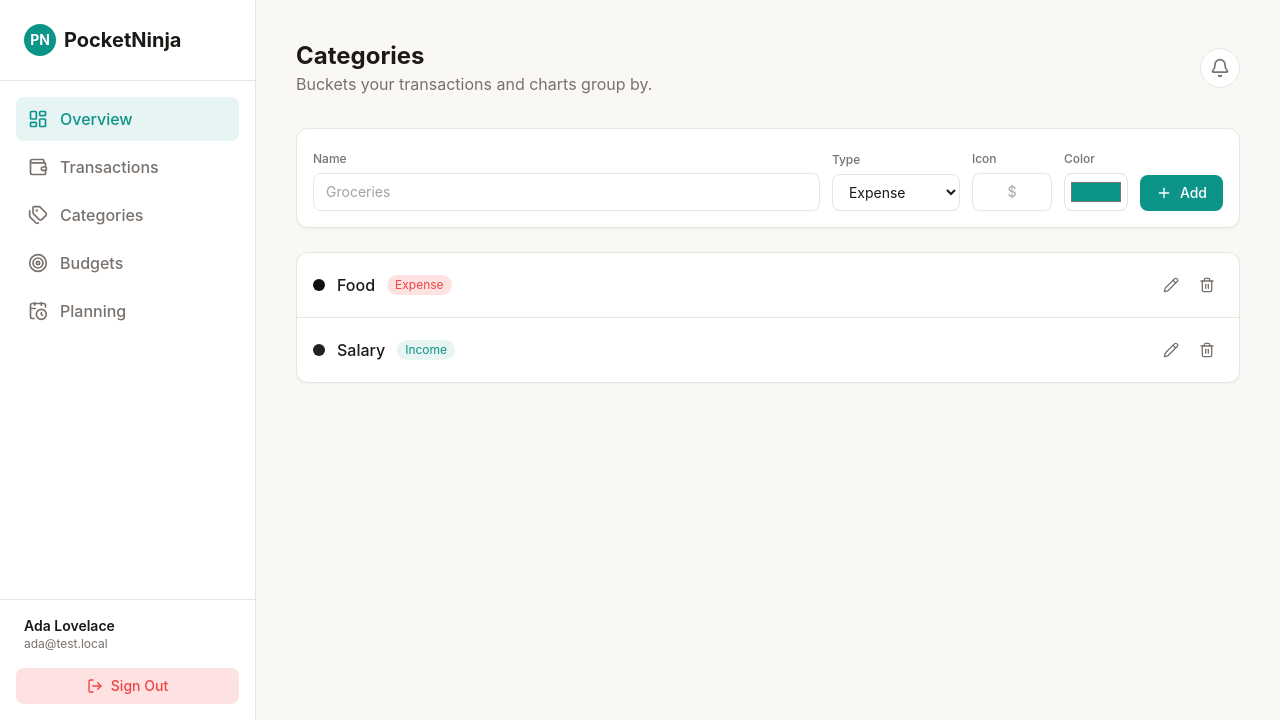
it: CategoriesPage › a failed add shows the server message and keeps the typed name
Expected: the text "Food" is shown, [337,273,375,297]
Type "X" into the field labelled "Name" at [566, 192], box [313,173,820,211]
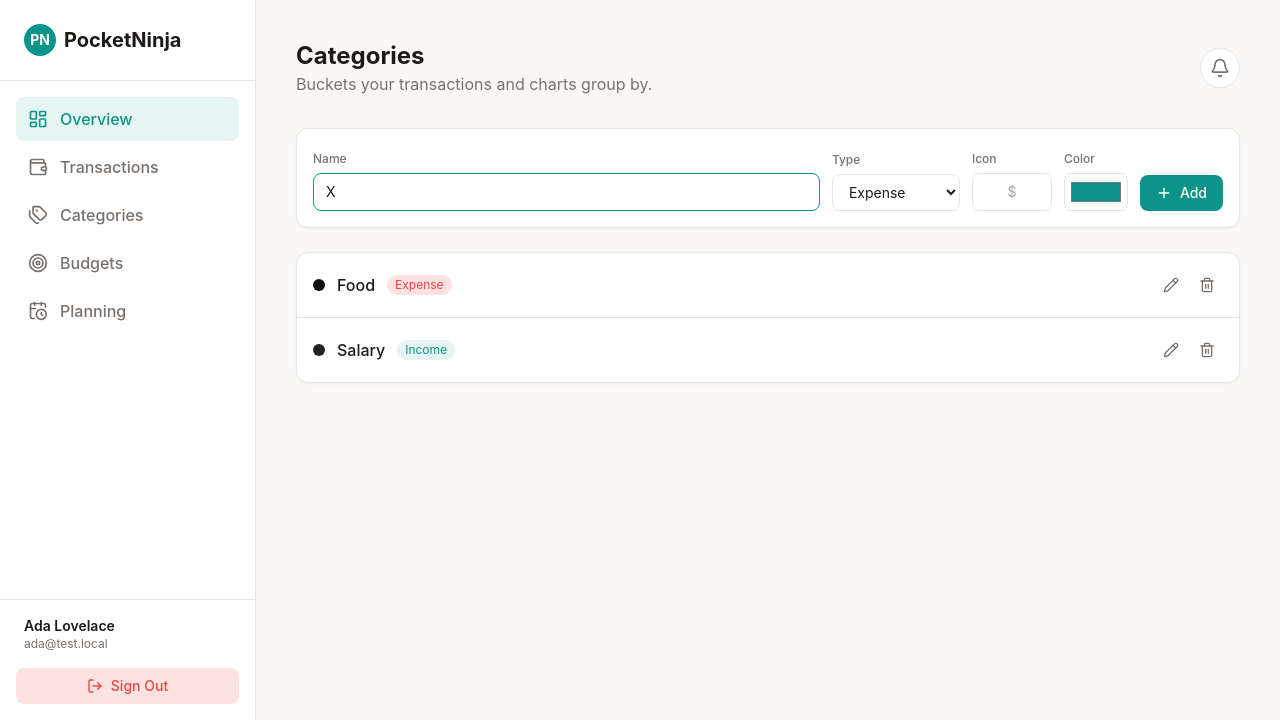
Click the button "Add" at [1181, 193], box [1140,175,1223,211]
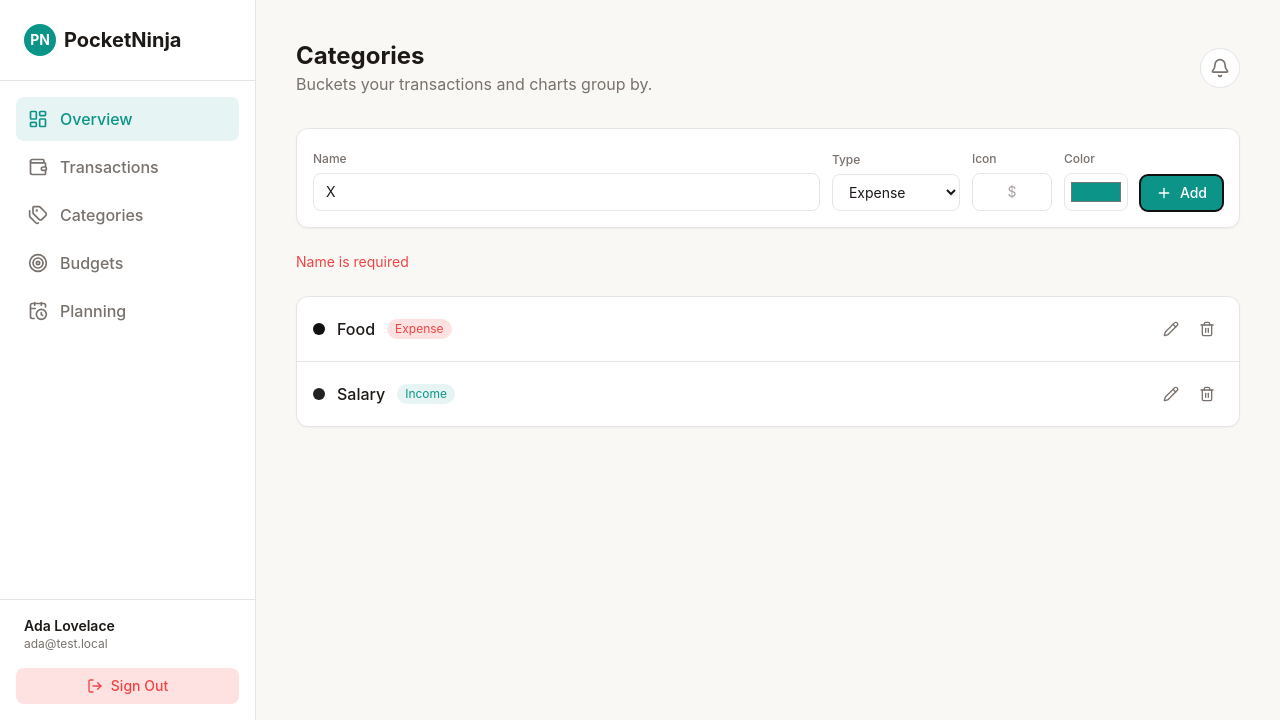
Now the text "Name is required" is shown, box [296,253,409,270]
